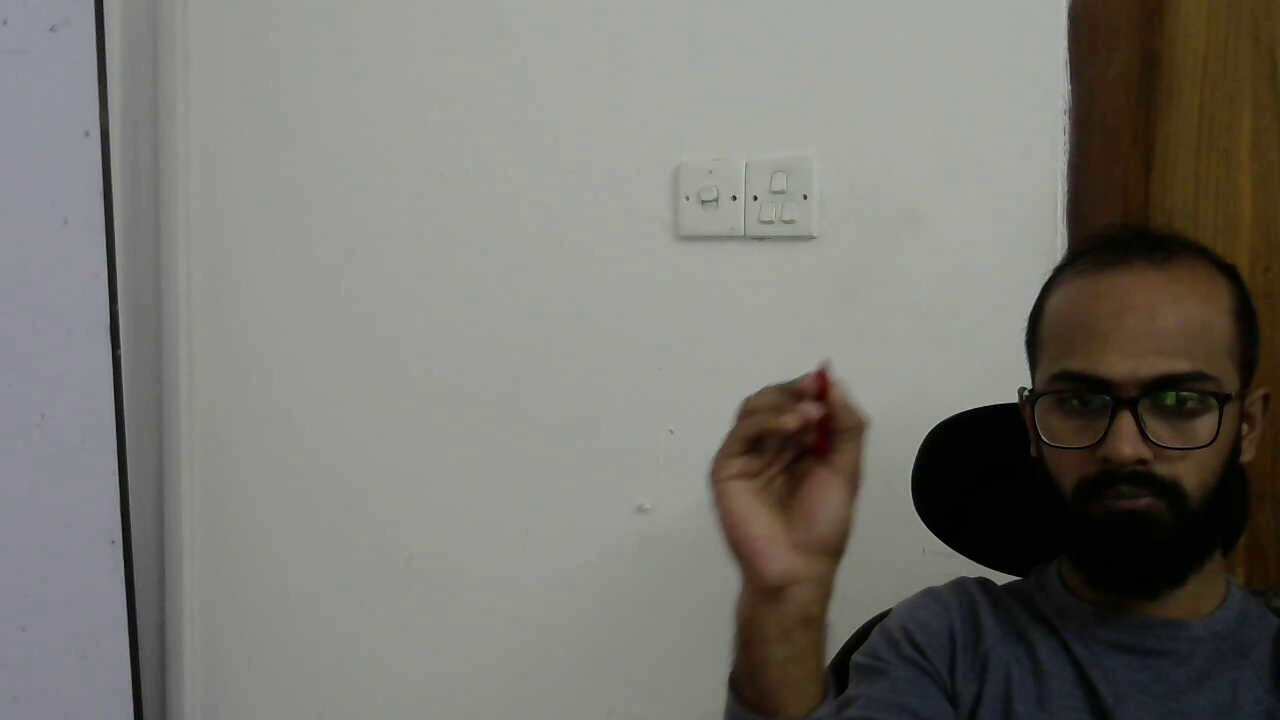pointer: (718, 376, 861, 521)
